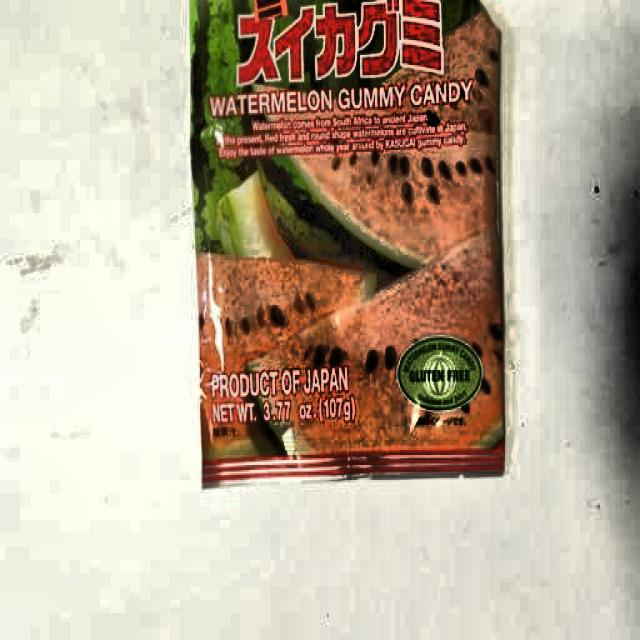paper: (181, 0, 508, 472)
